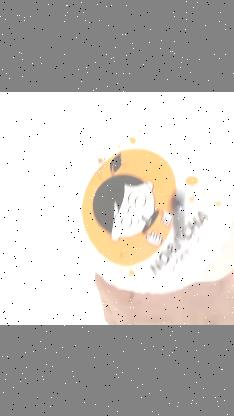Others: (69, 121, 234, 288)
